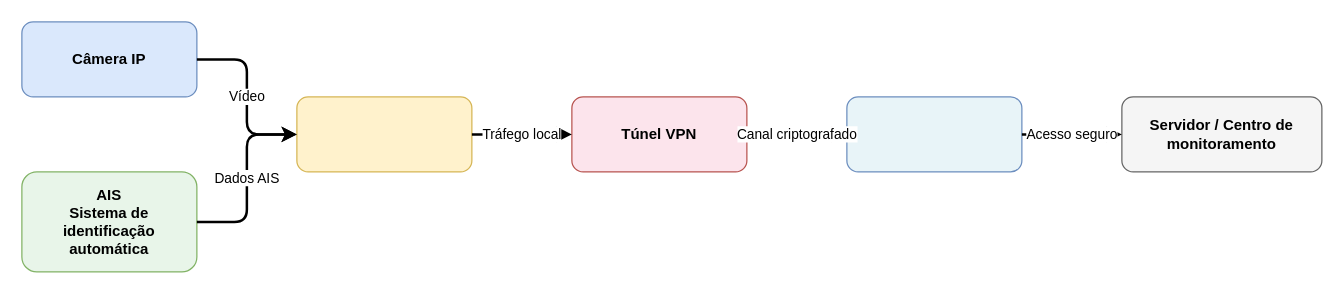
This 1344x294 diagram has some shape labels left out. The centre of each missing label's shape, as x and y in pixels:
"Gateway / Roteador" goes at (x=384, y=134).
"IP remoto Destino via VPN" goes at (x=934, y=134).
